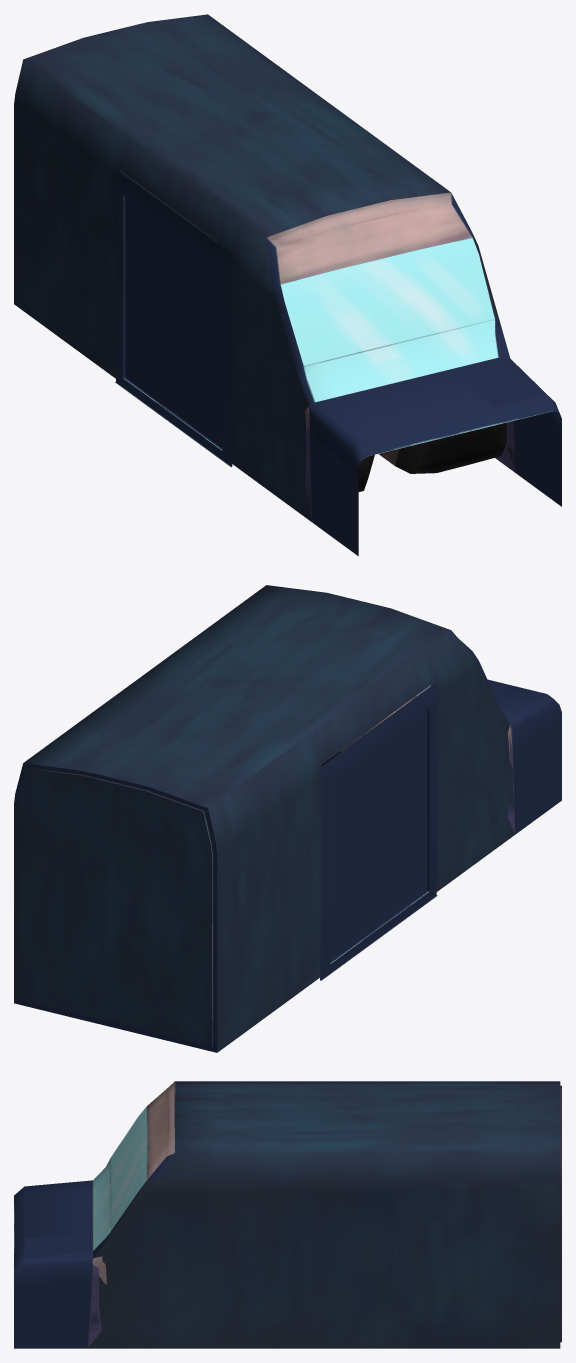
Rendered from Interior Van_UVsEditados.fbx.
The picture shows the model from 3 angles, top to bottom: view 1: azimuth 30°, elevation 25°; view 2: azimuth 150°, elevation 25°; view 3: azimuth 270°, elevation 25°; orthographic projection. The views are drawn at different scales.
Parts seen in each view (by area): view 1: Cube.020, Cube.030; view 2: Cube.020, Cube.030; view 3: Cube.020.
Boxes of the visible parts, x1=… form: Cube.020: x1=14, y1=14, x2=561, y2=555; Cube.030: x1=114, y1=169, x2=232, y2=467; Cube.020: x1=14, y1=585, x2=561, y2=1052; Cube.030: x1=320, y1=682, x2=437, y2=980; Cube.020: x1=14, y1=1081, x2=561, y2=1348.
Bounding box in the file's own units: 181 × 211 × 525.
